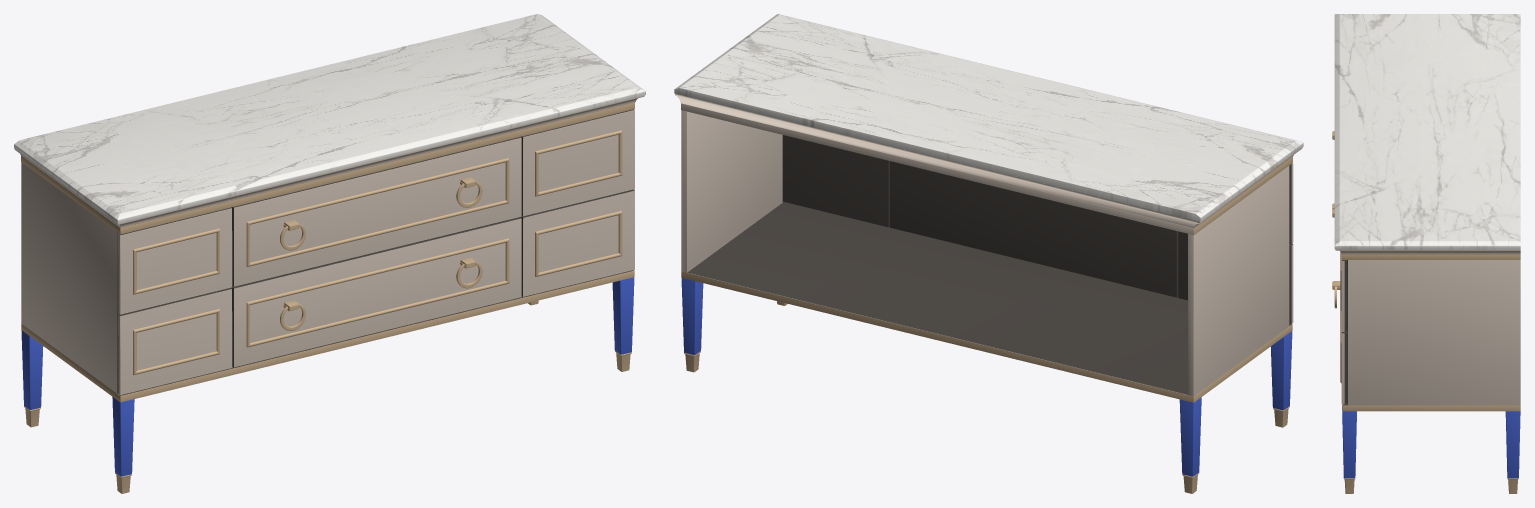
The picture shows the model from 3 angles, left to right: view 1: azimuth 30°, elevation 25°; view 2: azimuth 150°, elevation 25°; view 3: azimuth 270°, elevation 25°; orthographic projection. The views are drawn at different scales.
Visible parts, largest first — view 1: AV09; view 2: AV09; view 3: AV09.
Part boxes in pixels (x1=…): AV09: x1=14, y1=14, x2=645, y2=493; AV09: x1=674, y1=14, x2=1303, y2=493; AV09: x1=1332, y1=14, x2=1520, y2=493.
Bounding box in the file's own units: 1.65 × 0.847 × 0.5664.
6 materials, 3 textured.
